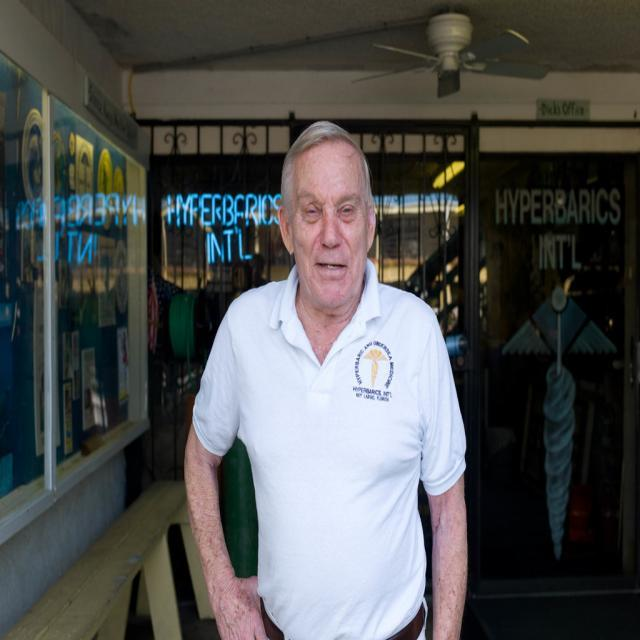fan_off: (345, 15, 554, 101)
